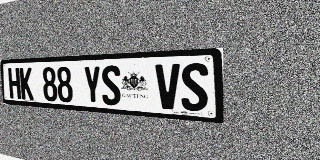8: (56, 66, 73, 103), (42, 67, 58, 102)
H: (8, 68, 21, 99)
K: (19, 67, 34, 100)
S: (181, 63, 208, 112), (101, 65, 121, 106)
V: (155, 64, 181, 110)
Y: (83, 66, 102, 105)
